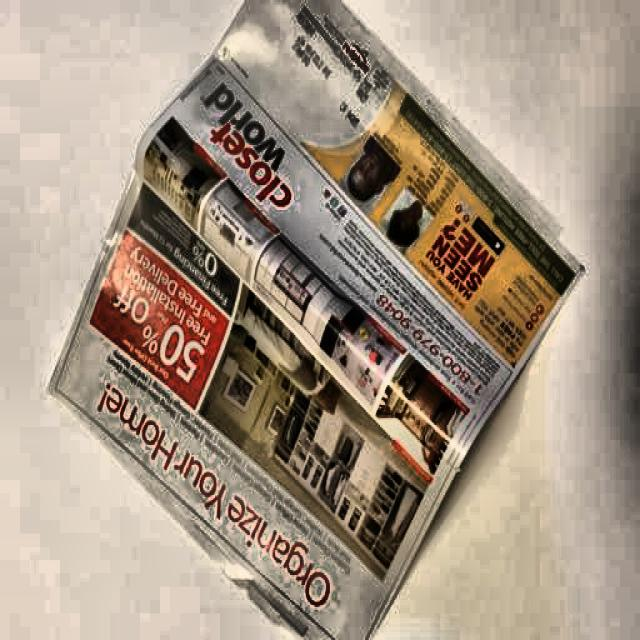paper: (55, 3, 578, 616)
